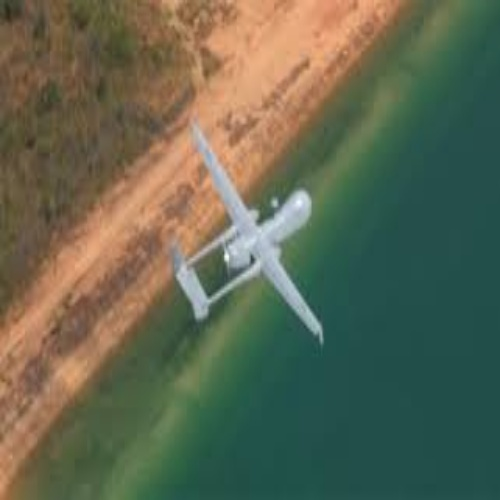uav: (170, 122, 326, 349)
